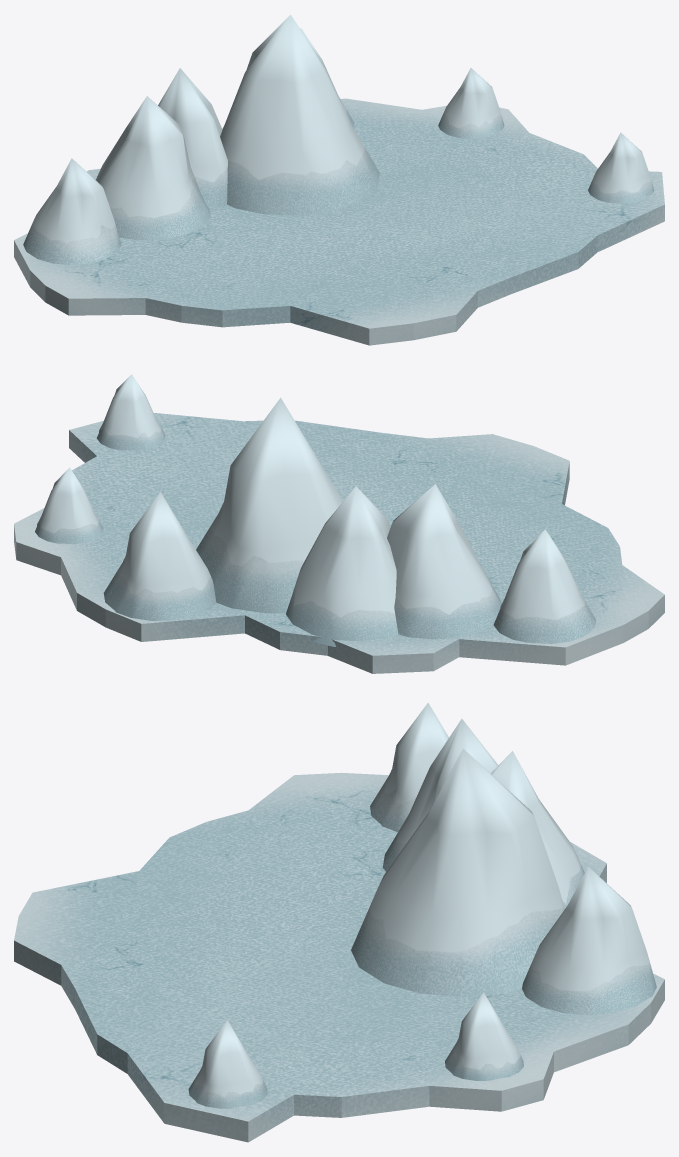
File: SnowIsland.fbx
The picture shows the model from 3 angles, top to bottom: view 1: azimuth 30°, elevation 25°; view 2: azimuth 150°, elevation 25°; view 3: azimuth 270°, elevation 25°; orthographic projection. The views are drawn at different scales.
Parts seen in each view (by area): view 1: Snow Land, Snow Mountain, Snow Mountain .001, Snow Mountain .006, Snow Mountain .002, Snow Mountain .004, Snow Mountain .005; view 2: Snow Land, Snow Mountain, Snow Mountain .002, Snow Mountain .001, Snow Mountain .003, Snow Mountain .006, Snow Mountain .005, Snow Mountain .004; view 3: Snow Land, Snow Mountain, Snow Mountain .003, Snow Mountain .006, Snow Mountain .005, Snow Mountain .004, Snow Mountain .002, Snow Mountain .001.
Part boxes in pixels (x1,y1,x2,y2): Snow Land: (14, 98, 664, 345); Snow Mountain: (220, 14, 379, 215); Snow Mountain .001: (96, 96, 210, 240); Snow Mountain .006: (23, 158, 120, 264); Snow Mountain .002: (158, 68, 227, 209); Snow Mountain .004: (438, 68, 504, 138); Snow Mountain .005: (588, 132, 654, 203); Snow Land: (14, 413, 664, 673); Snow Mountain: (196, 397, 343, 613); Snow Mountain .002: (286, 486, 398, 646); Snow Mountain .001: (387, 484, 501, 639); Snow Mountain .003: (103, 492, 216, 626); Snow Mountain .006: (493, 529, 595, 643); Snow Mountain .005: (96, 374, 165, 450); Snow Mountain .004: (35, 467, 103, 544); Snow Land: (14, 772, 664, 1142); Snow Mountain: (351, 748, 564, 996); Snow Mountain .003: (522, 867, 656, 1014); Snow Mountain .006: (370, 703, 448, 831); Snow Mountain .005: (188, 1020, 267, 1108); Snow Mountain .004: (445, 992, 523, 1080); Snow Mountain .002: (491, 751, 584, 908); Snow Mountain .001: (382, 718, 498, 871).
Bounding box in the file's own units: 7155 × 2130 × 5643.
